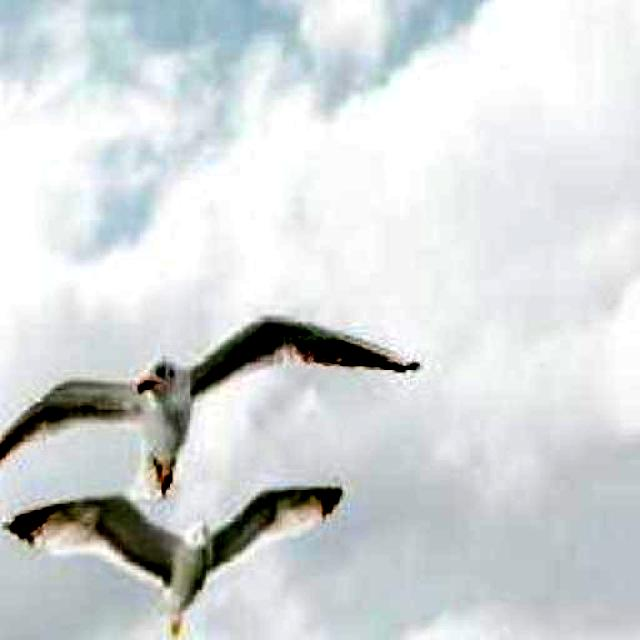airplane: (0, 312, 420, 534), (9, 489, 348, 640)
